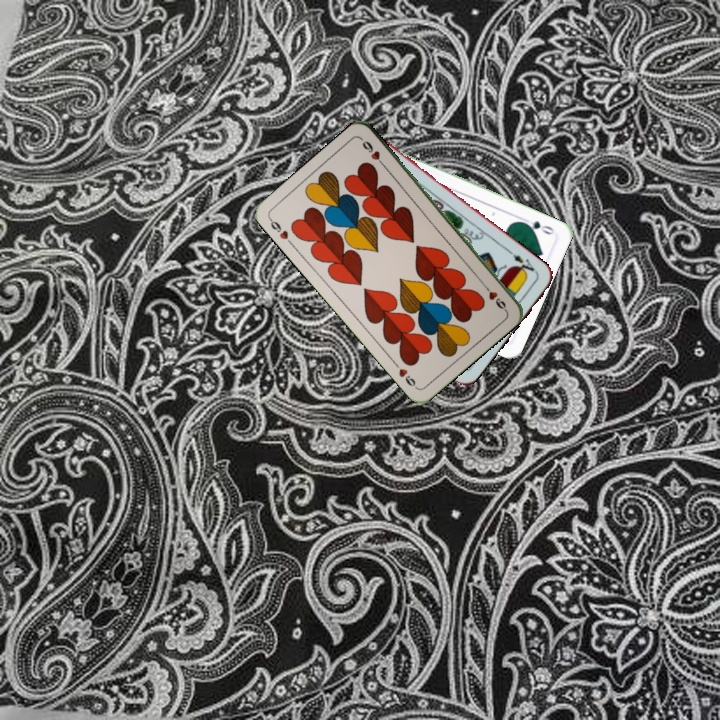EA: (505, 247, 540, 278)
GO: (517, 214, 556, 237)
H9: (265, 214, 296, 248), (478, 280, 509, 313)
